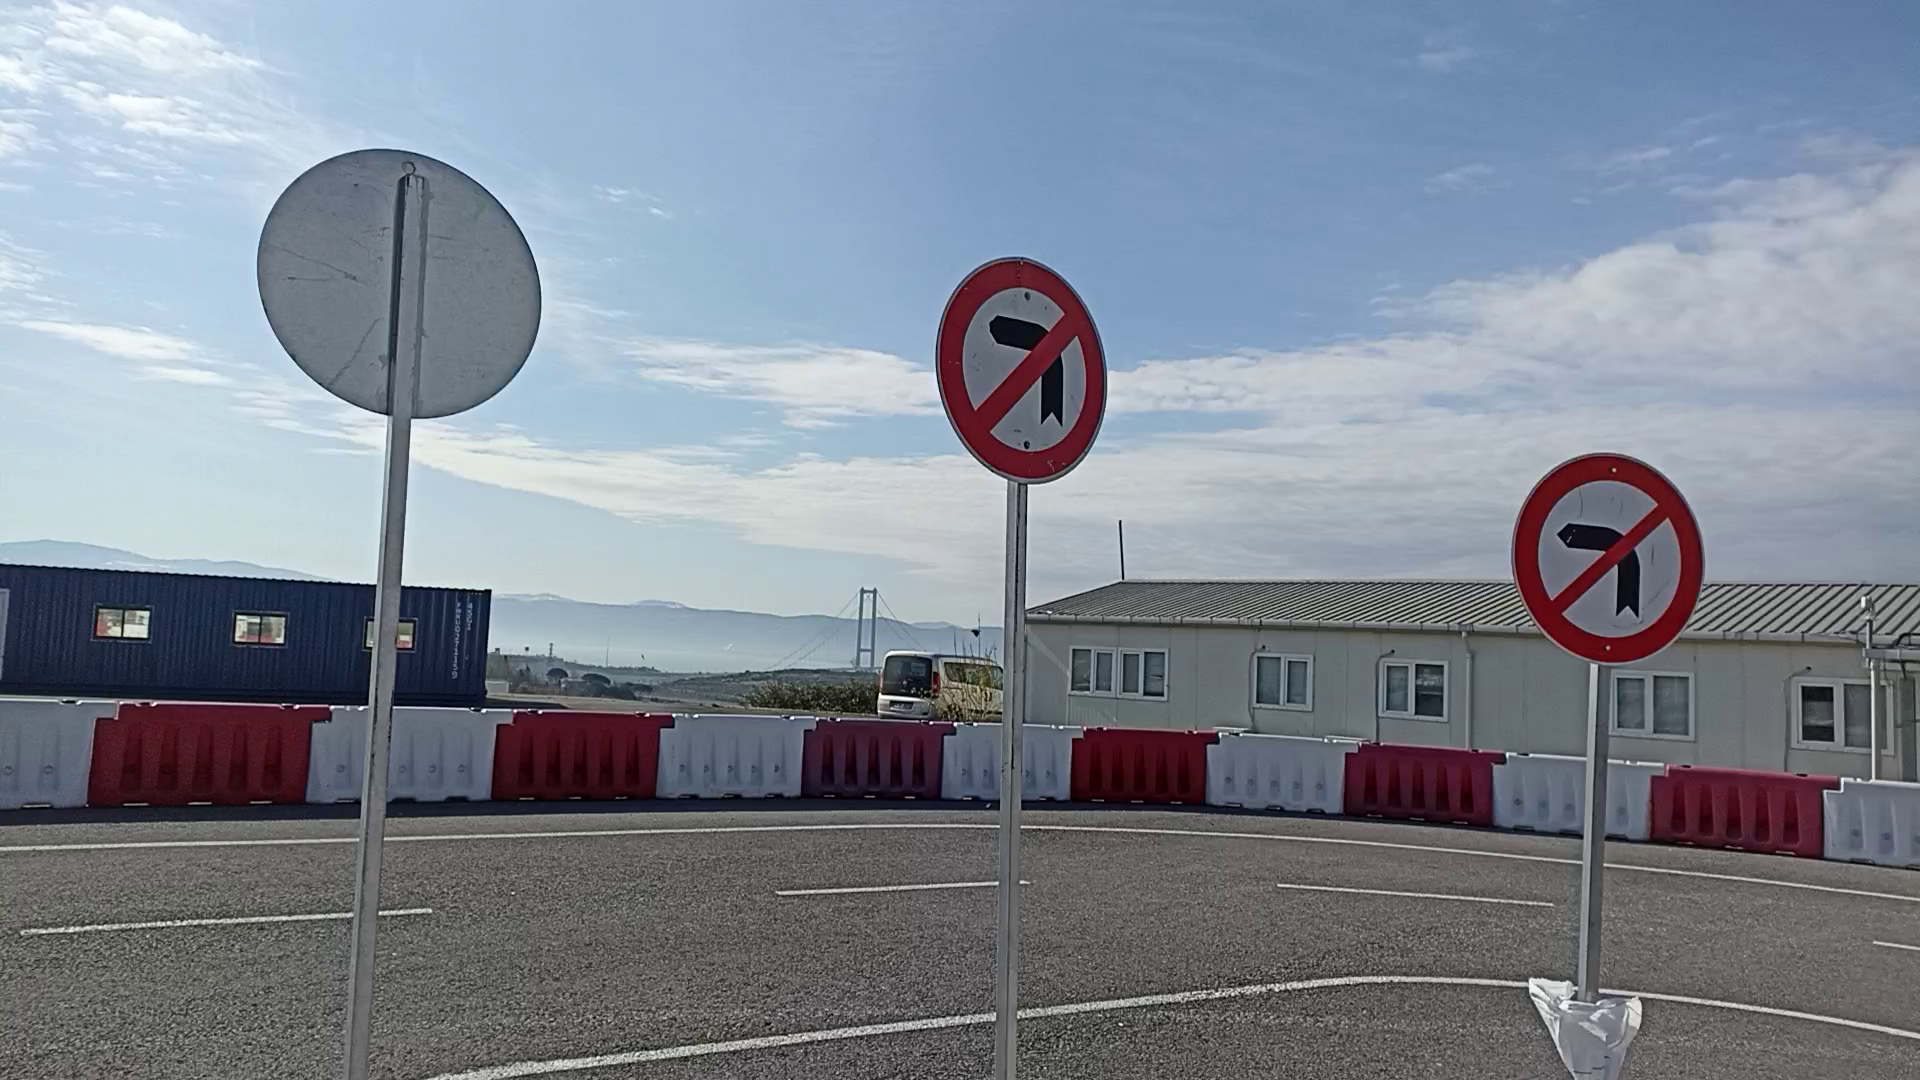noleft: (1507, 450, 1710, 671), (934, 253, 1110, 489)
